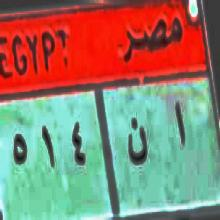1: (41, 118, 56, 174)
4: (70, 119, 86, 170)
5: (10, 124, 28, 178)
alif: (170, 91, 191, 165)
noon: (127, 113, 148, 172)
